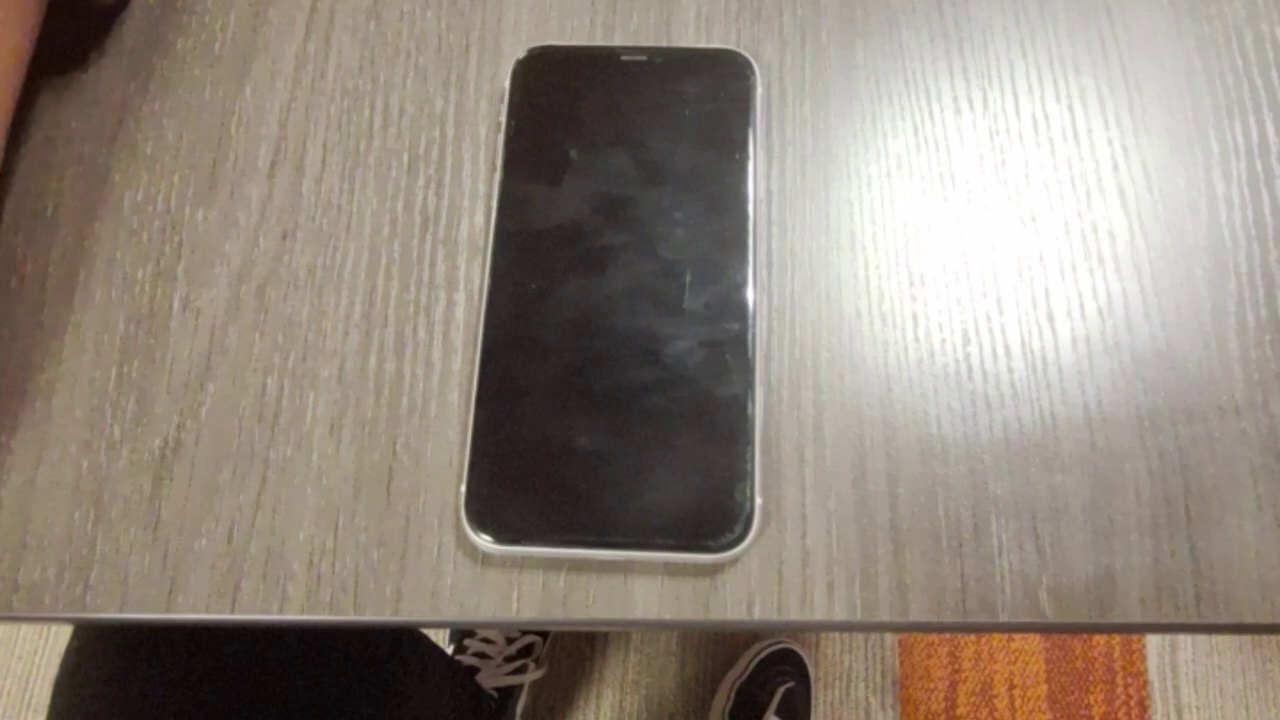celular: (458, 42, 762, 562)
